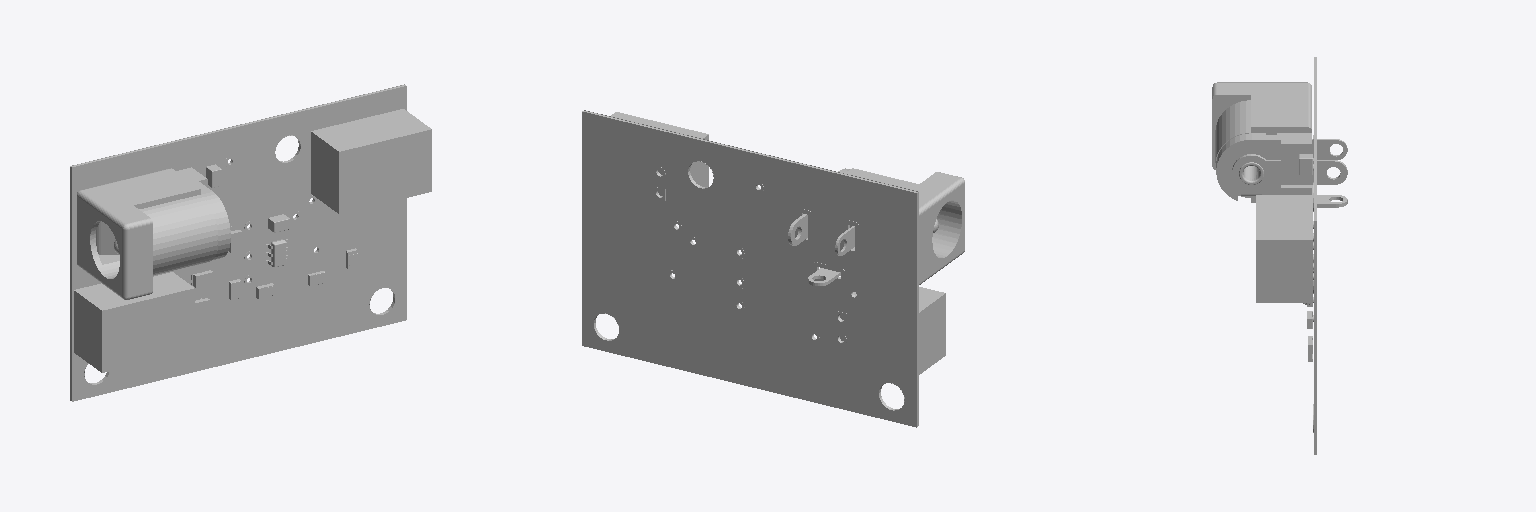
File: PCB1.obj
The picture shows the model from 3 angles: view 1: azimuth 30°, elevation 25°; view 2: azimuth 150°, elevation 25°; view 3: azimuth 270°, elevation 25°; orthographic projection.
Parts seen in each view (by area): view 1: Solder_Top, ComponentBody.36, ComponentBody.34, ComponentBody.35, Core, ComponentBody.38, ComponentBody.39; view 2: Solder_Bottom, ComponentBody.36, ComponentBody.35, Core, ComponentBody.39, ComponentBody.34; view 3: ComponentBody.34, ComponentBody.36, ComponentBody.38, ComponentBody.39, Core.
Part boxes in pixels (left/top/right/bottom): Solder_Top: left=72, top=86, right=406, bottom=401; ComponentBody.36: left=77, top=168, right=217, bottom=299; ComponentBody.34: left=311, top=109, right=431, bottom=213; ComponentBody.35: left=74, top=272, right=194, bottom=372; Core: left=70, top=85, right=405, bottom=400; ComponentBody.38: left=176, top=167, right=230, bottom=259; ComponentBody.39: left=96, top=221, right=119, bottom=254; Solder_Bottom: left=582, top=112, right=916, bottom=427; ComponentBody.36: left=845, top=168, right=964, bottom=284; ComponentBody.35: left=840, top=287, right=945, bottom=374; Core: left=582, top=111, right=918, bottom=426; ComponentBody.39: left=788, top=214, right=854, bottom=285; ComponentBody.34: left=611, top=112, right=708, bottom=195; ComponentBody.34: left=1256, top=195, right=1312, bottom=302; ComponentBody.36: left=1212, top=82, right=1311, bottom=202; ComponentBody.38: left=1216, top=133, right=1311, bottom=200; ComponentBody.39: left=1232, top=139, right=1347, bottom=207; Core: left=1314, top=57, right=1316, bottom=454.
Bounding box in the file's own units: 4.15 × 2.77 × 1.45.